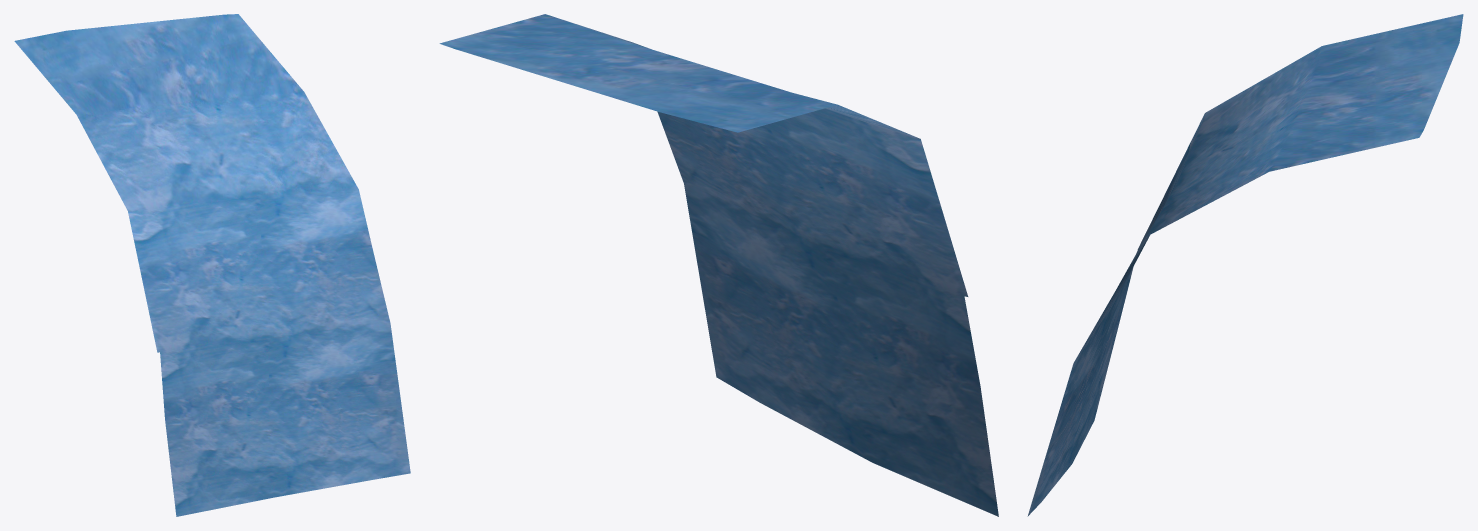
Rendered from IceA4.fbx.
3 renders of one model, left to right at view 1: azimuth 30°, elevation 25°; view 2: azimuth 150°, elevation 25°; view 3: azimuth 270°, elevation 25°, orthographic. The views are drawn at different scales.
Visible parts, largest first — view 1: IceA4; view 2: IceA4; view 3: IceA4.
Part boxes in pixels (box(x1,y1,x2,y2)): IceA4: box(14, 14, 410, 516); IceA4: box(439, 14, 998, 516); IceA4: box(1027, 14, 1463, 516).
Bounding box in the file's own units: 888 × 1479 × 1438.
